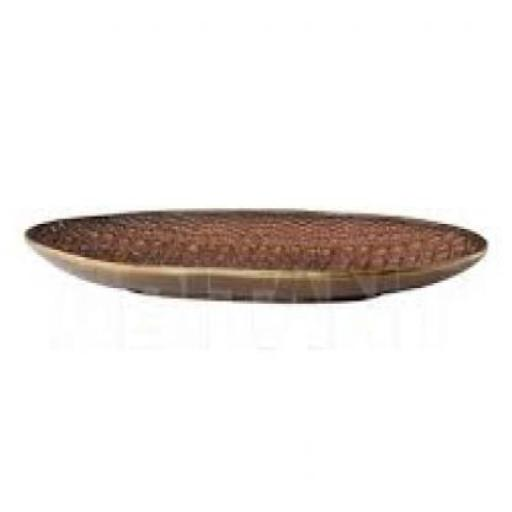glass: (22, 206, 486, 299)
